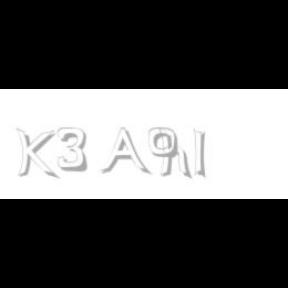3: (57, 128, 88, 172)
A: (100, 128, 148, 176)
K: (15, 128, 55, 180)
h: (159, 128, 194, 180)
l: (194, 128, 210, 180)
o: (148, 128, 178, 158)
